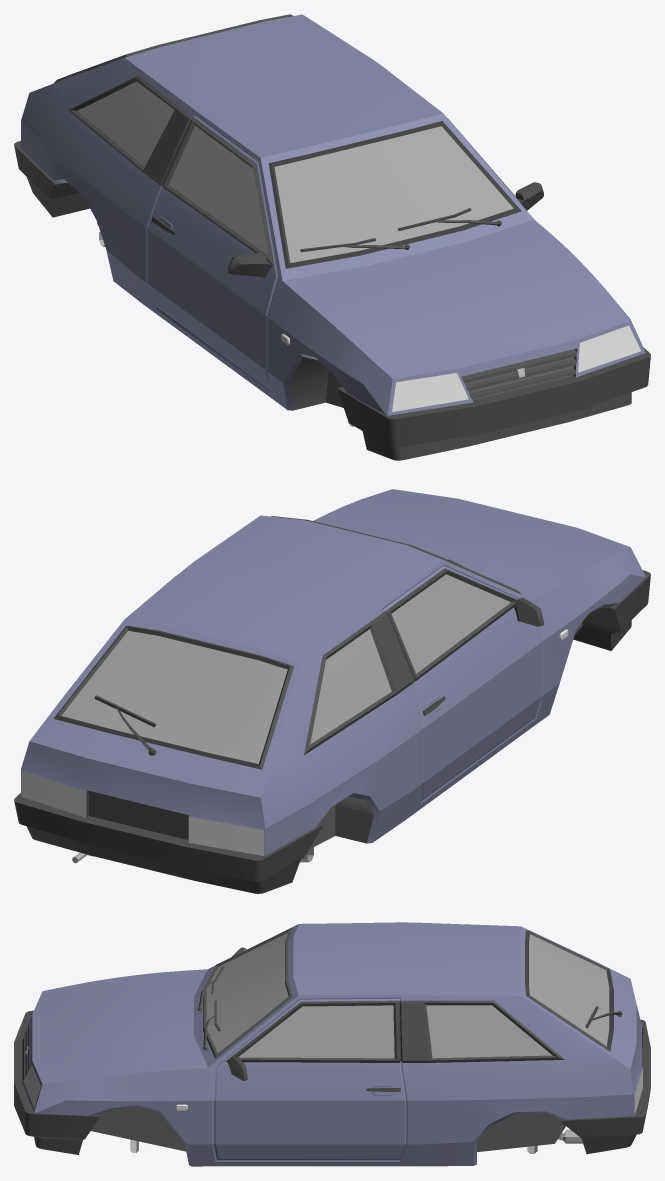
The model's file is Sputnik.fbx.
3 renders of one model, top to bottom at view 1: azimuth 30°, elevation 25°; view 2: azimuth 150°, elevation 25°; view 3: azimuth 270°, elevation 25°, orthographic. The views are drawn at different scales.
Parts seen in each view (by area): view 1: Body; view 2: Body; view 3: Body.
Boxes of the visible parts, bbox=[...] form: Body: bbox=[14, 14, 650, 460]; Body: bbox=[14, 489, 650, 893]; Body: bbox=[14, 922, 650, 1166].
Bounding box in the file's own units: 187 × 118 × 408.
